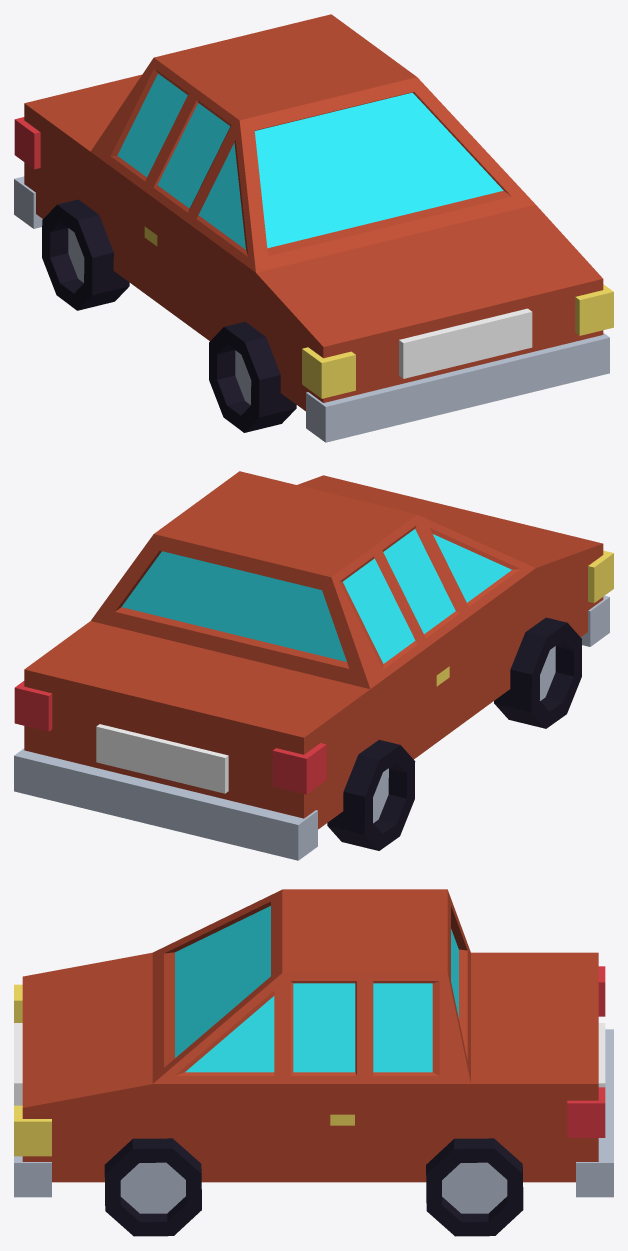
The model's file is car13.fbx.
3 views of the same model, one above another, from view 1: azimuth 30°, elevation 25°; view 2: azimuth 150°, elevation 25°; view 3: azimuth 270°, elevation 25° (orthographic). The views are drawn at different scales.
Parts seen in each view (by area): view 1: CarOrange; view 2: CarOrange; view 3: CarOrange.
Part boxes in pixels (x1,y1,x2,y2): CarOrange: (14,14,613,442); CarOrange: (14,471,613,860); CarOrange: (14,889,613,1236).
Size of the model in its own units: 2.31 by 1.63 by 3.86.
